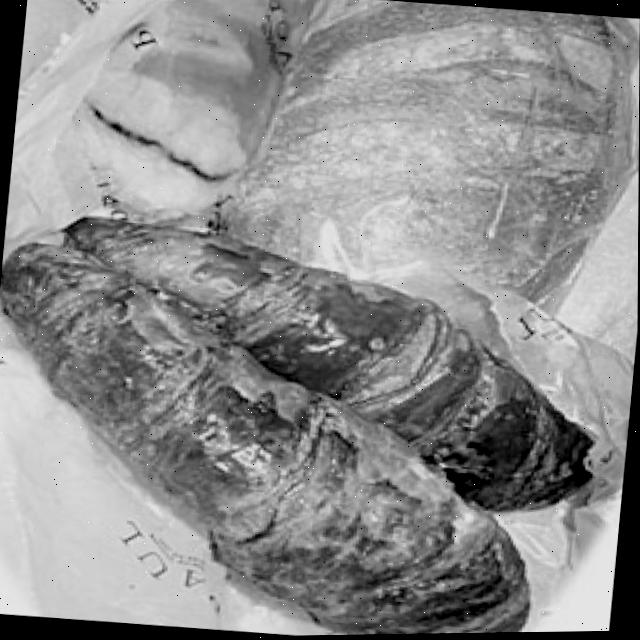面包点心: (0, 201, 631, 640)
